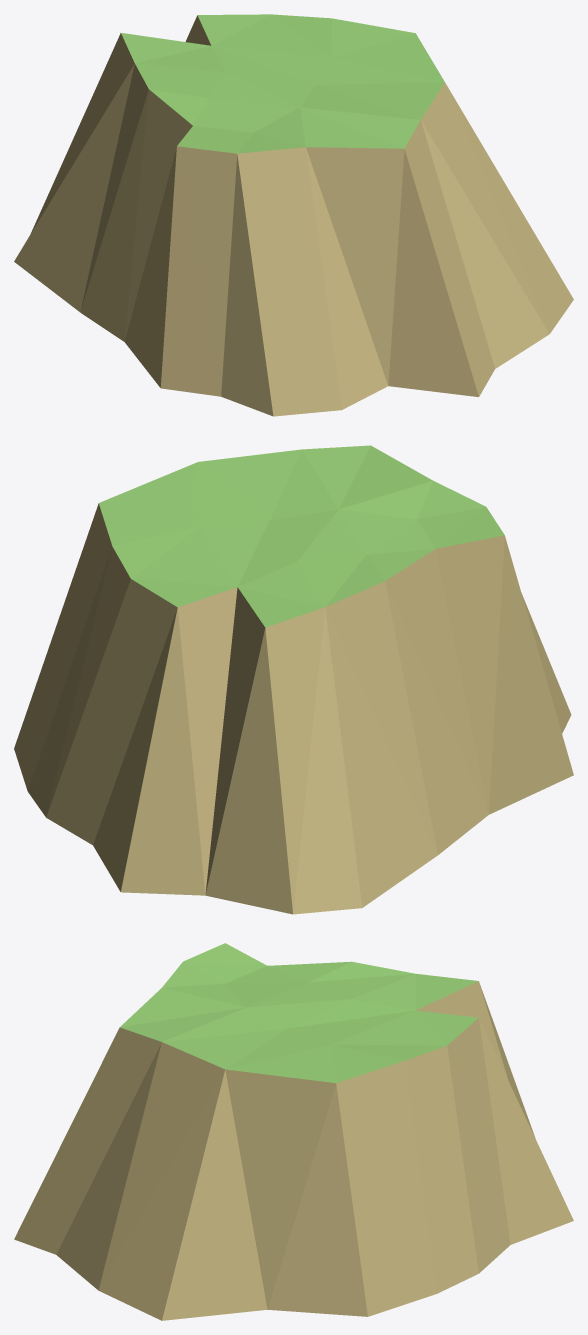
File: CPT_Island_S_c_03_LOD.fbx
3 views of the same model, one above another, from view 1: azimuth 30°, elevation 25°; view 2: azimuth 150°, elevation 25°; view 3: azimuth 270°, elevation 25° (orthographic). The views are drawn at different scales.
Visible parts, largest first — view 1: CPT_Island_S_c_03_LOD0; view 2: CPT_Island_S_c_03_LOD0; view 3: CPT_Island_S_c_03_LOD0.
Part boxes in pixels (bbox=[...]): CPT_Island_S_c_03_LOD0: bbox=[14, 14, 573, 416]; CPT_Island_S_c_03_LOD0: bbox=[14, 445, 573, 914]; CPT_Island_S_c_03_LOD0: bbox=[14, 943, 573, 1320].
Size of what is drawn, in the model's own units: 1641 by 851 by 2070.
